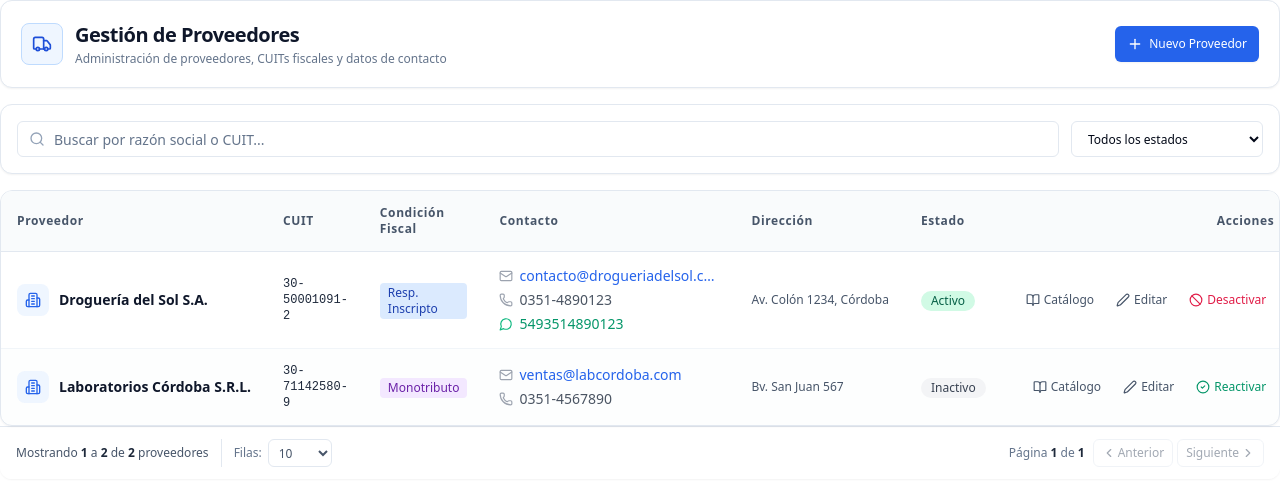
Test: SuppliersPage Integration Suite › filters suppliers by search input with debounce
Check: the text "Droguería del Sol S.A." is shown, box [59, 290, 208, 310]
In the field named "buscar proveedores": (538, 139) [17, 121, 1059, 157], type "Laboratorios"
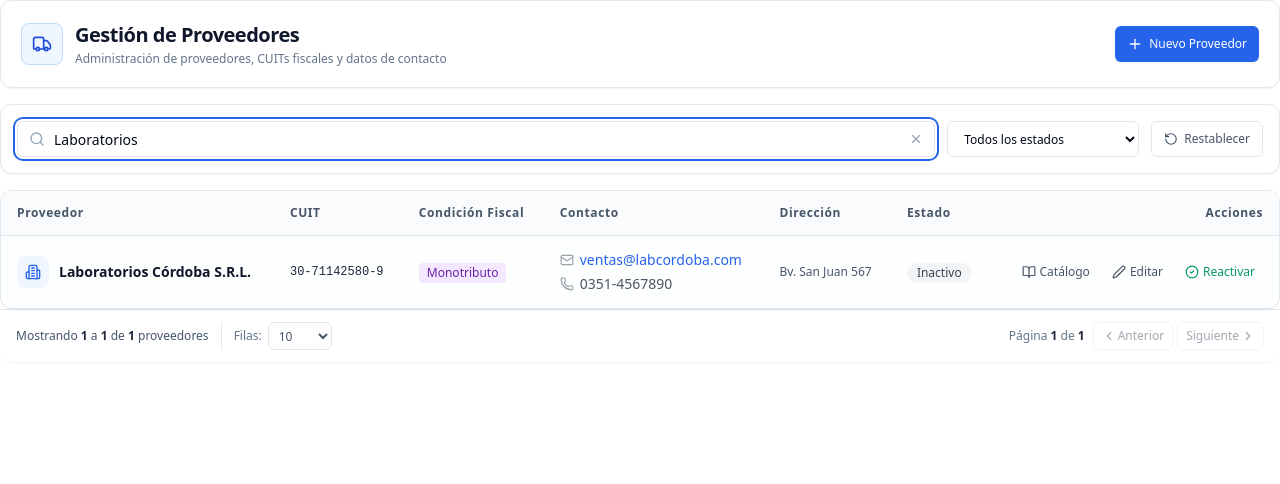
Check: the text "Laboratorios Córdoba S.R.L." is shown, box [59, 262, 251, 282]
Check: the text "Droguería del Sol S.A." is gone
